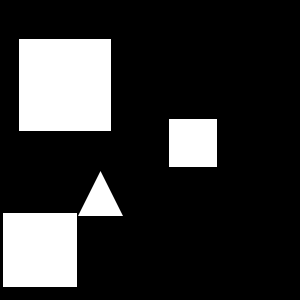circle: (19, 39, 111, 131), (3, 213, 77, 287), (169, 119, 217, 167)
triangle: (78, 171, 123, 216)
